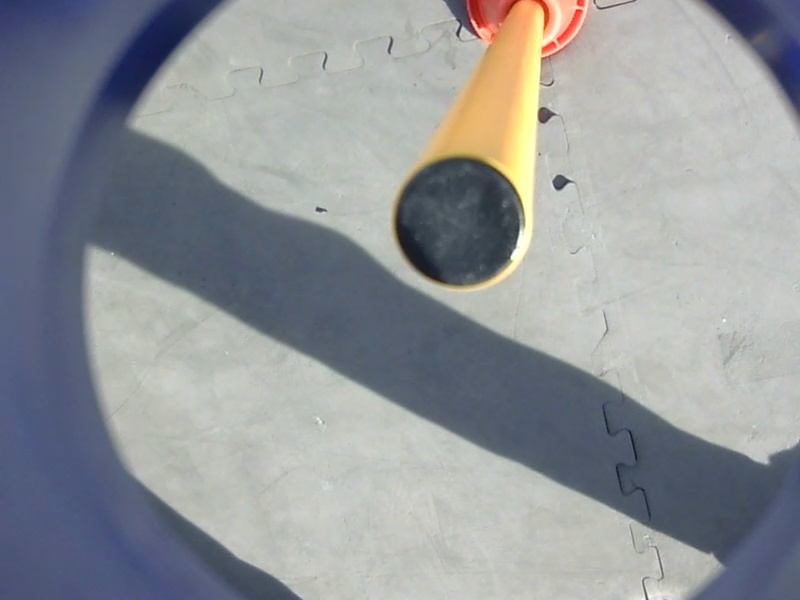tip: (384, 148, 535, 298)
